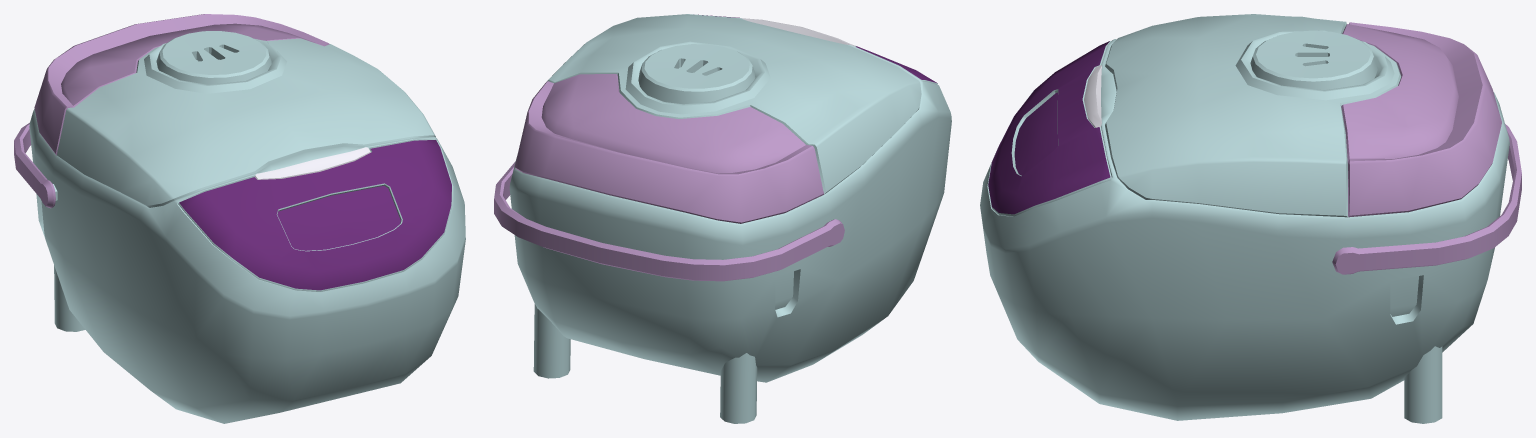
The model's file is MIDEAFD302.FBX.
The picture shows the model from 3 angles, left to right: view 1: azimuth 30°, elevation 25°; view 2: azimuth 150°, elevation 25°; view 3: azimuth 270°, elevation 25°; orthographic projection. The views are drawn at different scales.
Parts seen in each view (by area): view 1: MIDEAFD302; view 2: MIDEAFD302; view 3: MIDEAFD302.
Boxes of the visible parts, x1=… form: MIDEAFD302: x1=14, y1=14, x2=465, y2=423; MIDEAFD302: x1=494, y1=14, x2=951, y2=423; MIDEAFD302: x1=980, y1=14, x2=1521, y2=423.
Bounding box in the file's own units: 716 × 627 × 988.
